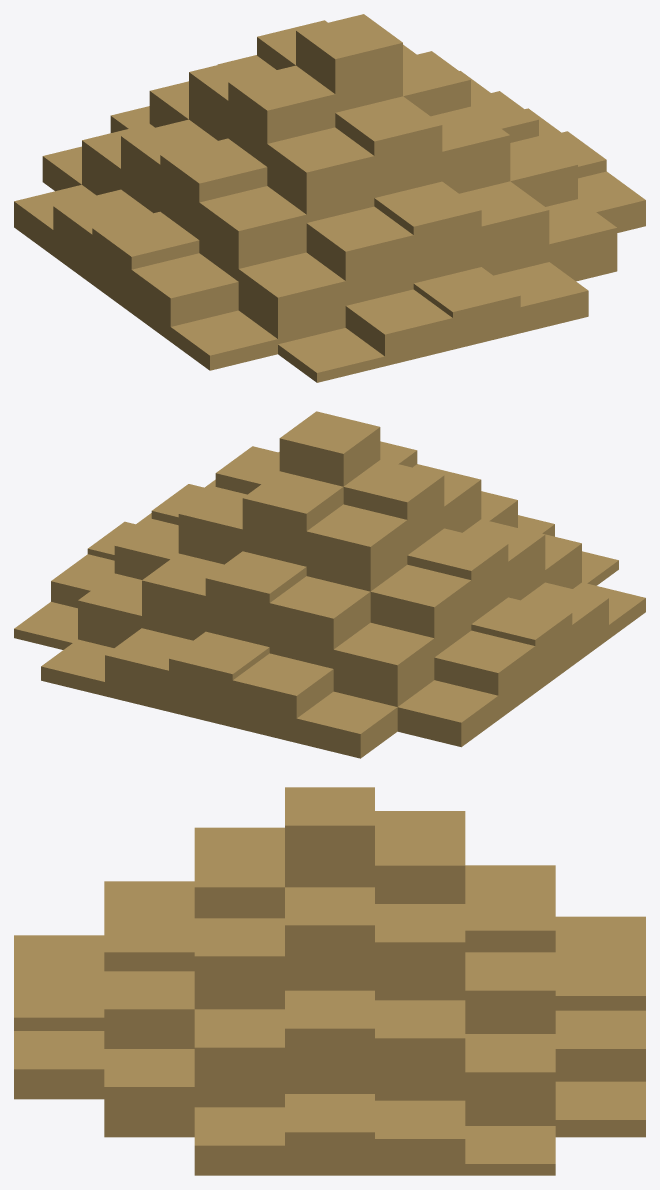
Rendered from sand-mound.glb.
3 renders of one model, top to bottom at view 1: azimuth 30°, elevation 25°; view 2: azimuth 150°, elevation 25°; view 3: azimuth 270°, elevation 25°, orthographic. The views are drawn at different scales.
Visible parts, largest first — view 1: sand-mound_b99b60; view 2: sand-mound_b99b60; view 3: sand-mound_b99b60.
Part boxes in pixels (box(x1,y1,x2,y2)): sand-mound_b99b60: box(14, 14, 645, 382); sand-mound_b99b60: box(14, 411, 645, 758); sand-mound_b99b60: box(14, 787, 645, 1175).
Size of the model in its own units: 2.1 by 0.8634 by 2.1.
